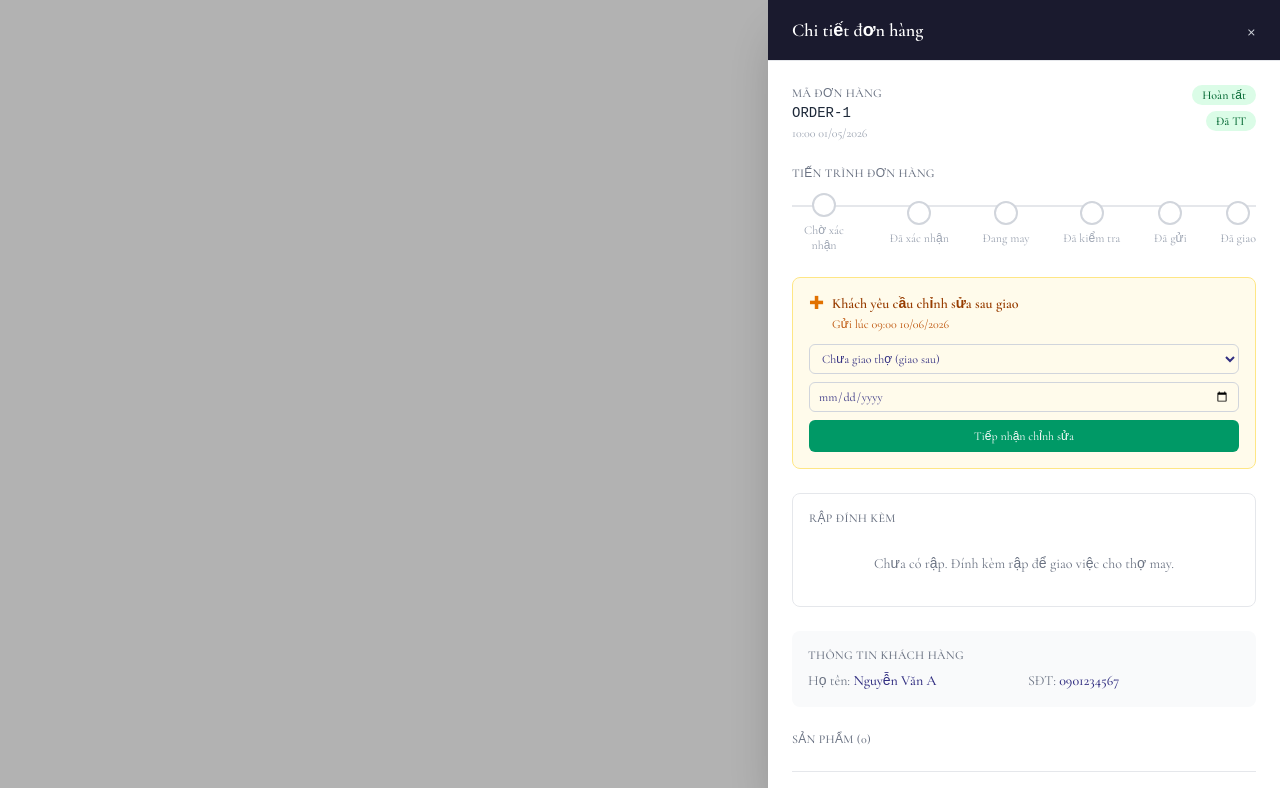
Test: OrderDetailDrawer — alteration approve panel (AC6) › shows the error and does not refresh on failure
The width and height of the screenshot is (1280, 788).
Click the button with test id "alteration-approve-btn": (1024, 436) [809,420,1239,452]
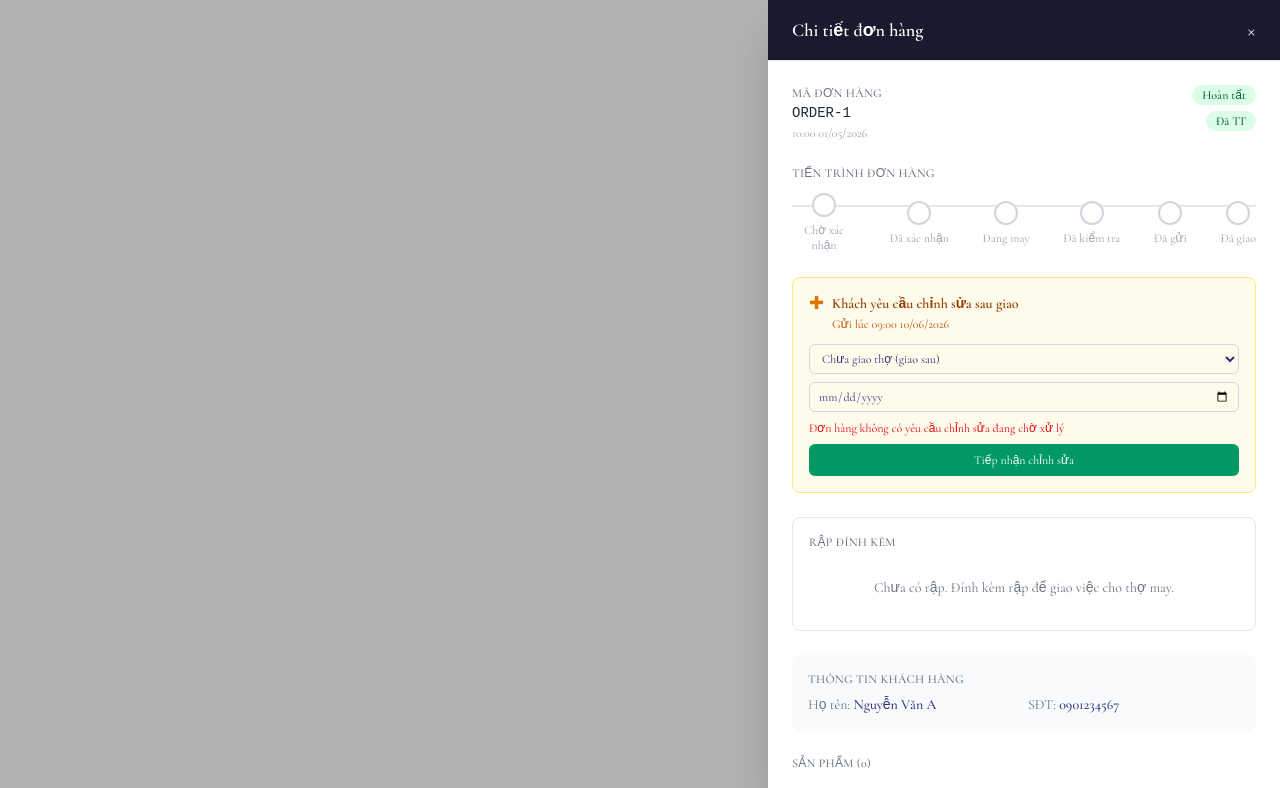
Expected: the text with test id "alteration-approve-error" reads "Đơn hàng không có yêu cầu chỉnh sửa đang chờ xử lý", [809,421,1064,435]
